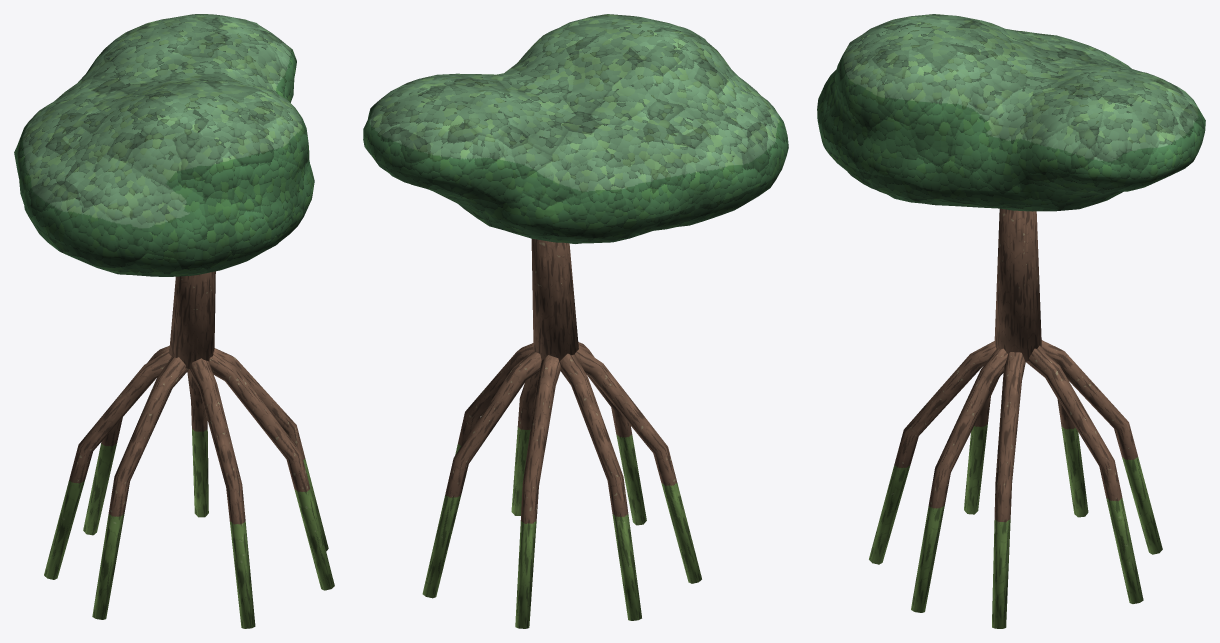
The model's file is mangrove_b.glb.
The picture shows the model from 3 angles, left to right: view 1: azimuth 30°, elevation 25°; view 2: azimuth 150°, elevation 25°; view 3: azimuth 270°, elevation 25°; orthographic projection.
Parts seen in each view (by area): view 1: crown_leaf, Trunk; view 2: crown_leaf, Trunk; view 3: crown_leaf, Trunk.
Part boxes in pixels (x1=…): crown_leaf: x1=14, y1=14, x2=314, y2=276; Trunk: x1=44, y1=271, x2=334, y2=628; crown_leaf: x1=363, y1=14, x2=788, y2=243; Trunk: x1=422, y1=238, x2=701, y2=628; crown_leaf: x1=817, y1=14, x2=1205, y2=211; Trunk: x1=869, y1=208, x2=1162, y2=628.
Bounding box in the file's own units: 3.17 × 4.83 × 3.26.
Materials: 1 (1 with a texture image).
